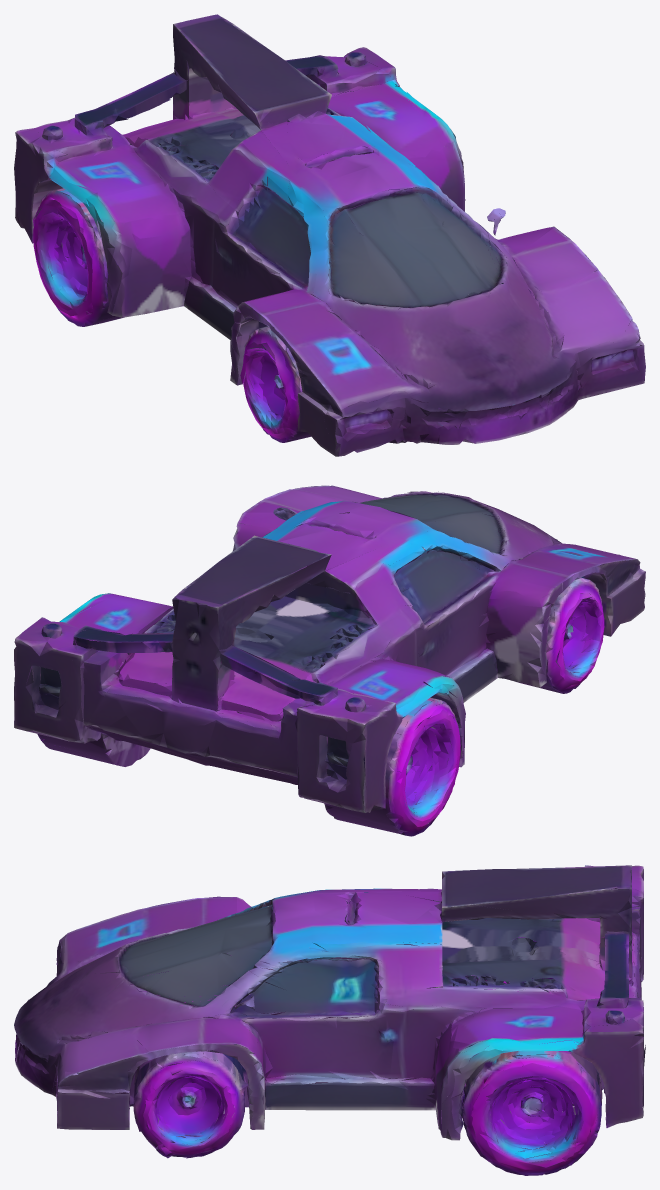
The model's file is v8supercar_rocket.glb.
3 views of the same model, one above another, from view 1: azimuth 30°, elevation 25°; view 2: azimuth 150°, elevation 25°; view 3: azimuth 270°, elevation 25° (orthographic). The views are drawn at different scales.
Visible parts, largest first — view 1: Rocket_V8_Supercar_x; view 2: Rocket_V8_Supercar_x; view 3: Rocket_V8_Supercar_x.
Part boxes in pixels (<box>): Rocket_V8_Supercar_x: <box>14,14,645,456</box>; Rocket_V8_Supercar_x: <box>14,485,645,836</box>; Rocket_V8_Supercar_x: <box>14,865,645,1175</box>.
Bounding box in the file's own units: 0.3945 × 0.2273 × 0.6009.
1 material, 1 textured.
